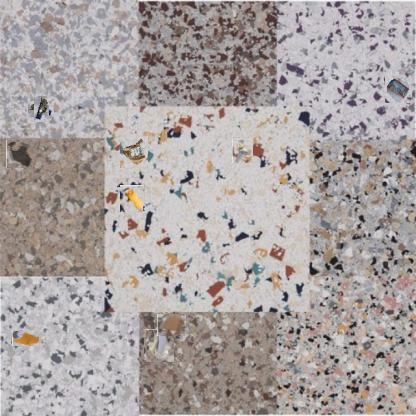dirty: (145, 331, 176, 361), (120, 136, 148, 168), (384, 76, 412, 102), (119, 186, 144, 212), (159, 313, 185, 338), (232, 137, 253, 163), (31, 99, 52, 120)
liquid: (6, 141, 34, 168), (12, 330, 39, 346)
